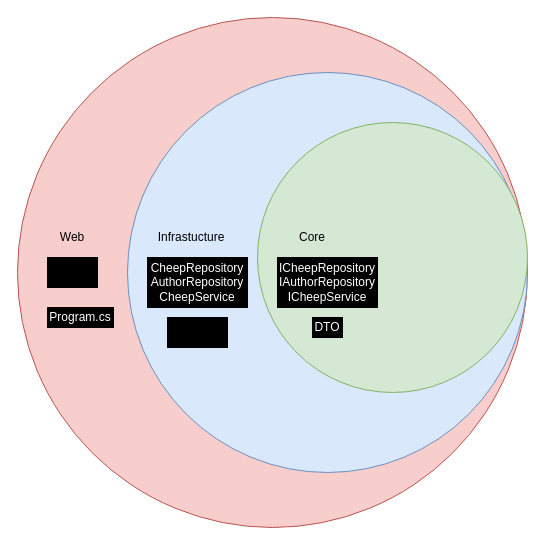
Image size: 545x545. Some labels were removed from this diagram. Here are the shapes that lost their labels. From the top down, the centre of each, then its label:
(x=72, y=272): Pages
(x=197, y=332): DataModel
